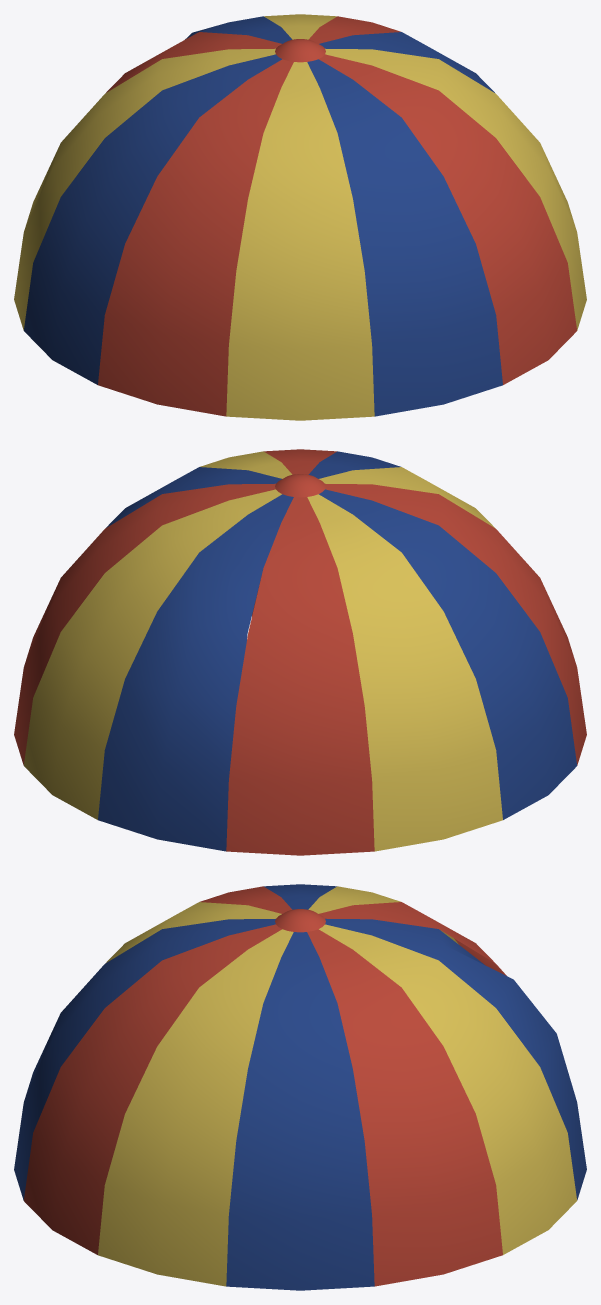
File: hat.fbx
The picture shows the model from 3 angles, top to bottom: view 1: azimuth 30°, elevation 25°; view 2: azimuth 150°, elevation 25°; view 3: azimuth 270°, elevation 25°; orthographic projection.
Visible parts, largest first — view 1: Hat; view 2: Hat; view 3: Hat.
Boxes of the visible parts, x1,y1,x2,y2 form: Hat: (14, 14, 586, 420); Hat: (14, 449, 586, 855); Hat: (14, 884, 586, 1290).
Bounding box in the file's own units: 200 × 99.14 × 200.
